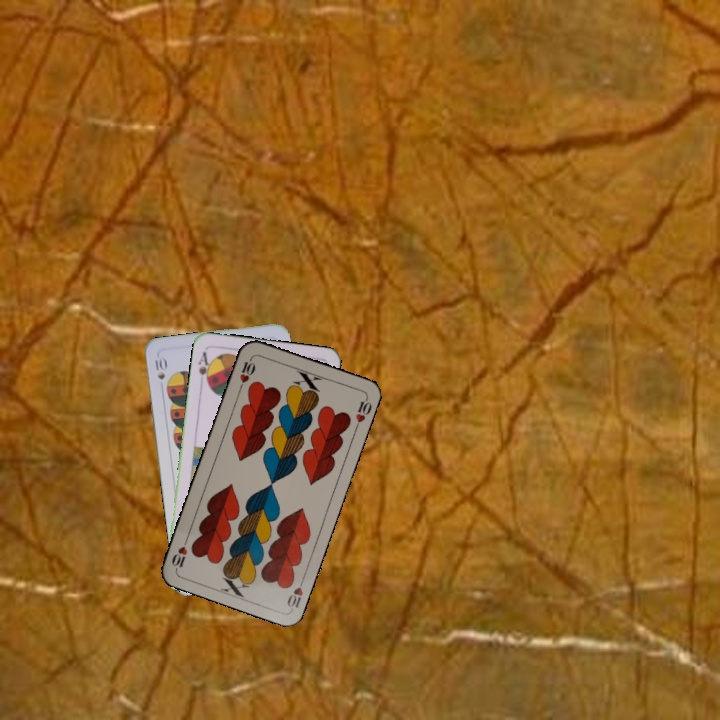H10: (283, 573, 307, 612), (235, 354, 258, 393)
S10: (151, 353, 168, 382)
SA: (194, 348, 214, 388)
